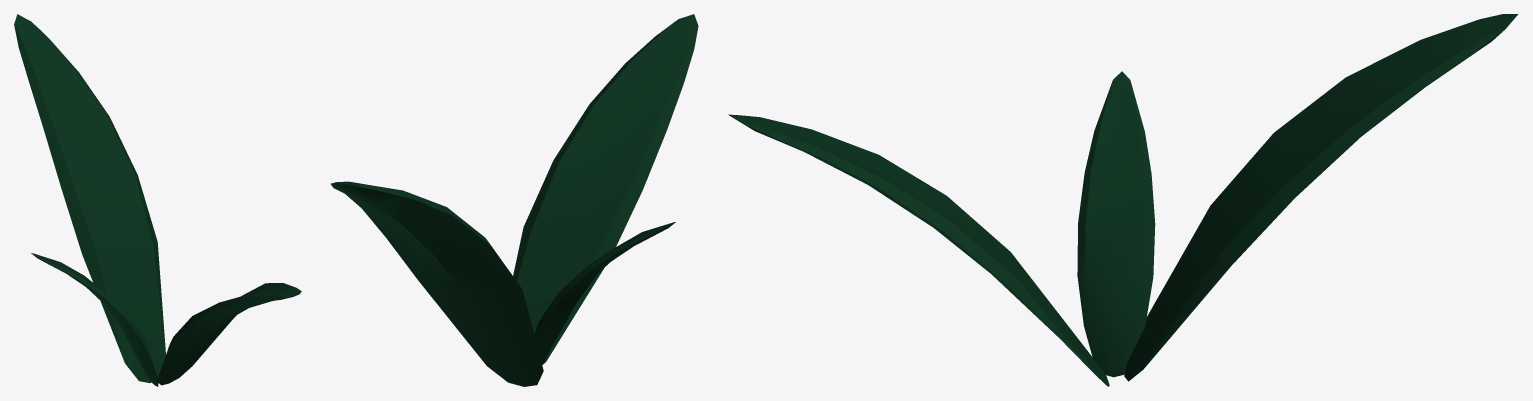
Rendered from plant3_l.fbx.
3 views of the same model, side by side, from view 1: azimuth 30°, elevation 25°; view 2: azimuth 150°, elevation 25°; view 3: azimuth 270°, elevation 25° (orthographic). The views are drawn at different scales.
Parts seen in each view (by area): view 1: Plane.001; view 2: Plane.001; view 3: Plane.001.
Part boxes in pixels (x1,y1,x2,y2): Plane.001: [14, 14, 301, 386]; Plane.001: [330, 14, 698, 386]; Plane.001: [728, 14, 1518, 386].
Bounding box in the file's own units: 37.32 × 108 × 55.66.
